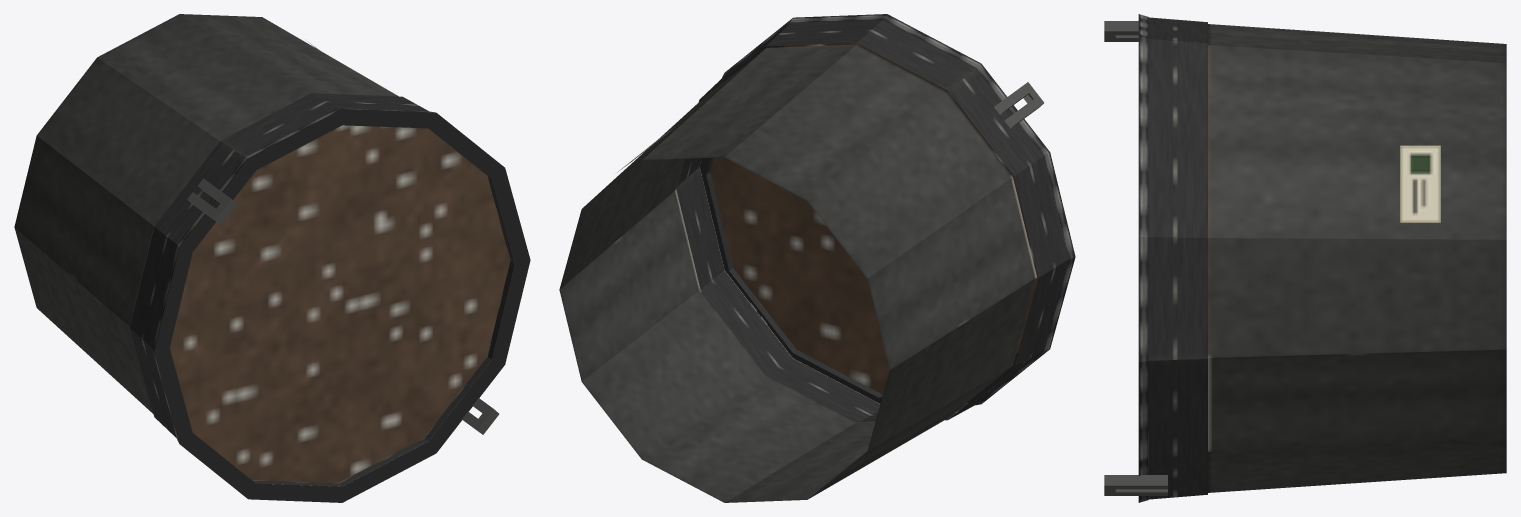
The model's file is pot_bag_xl_soil.obj.
The picture shows the model from 3 angles, left to right: view 1: azimuth 30°, elevation 25°; view 2: azimuth 150°, elevation 25°; view 3: azimuth 270°, elevation 25°; orthographic projection. The views are drawn at different scales.
Bounding box in the file's own units: 0.964 × 0.964 × 0.789.
1 material, 1 textured.
